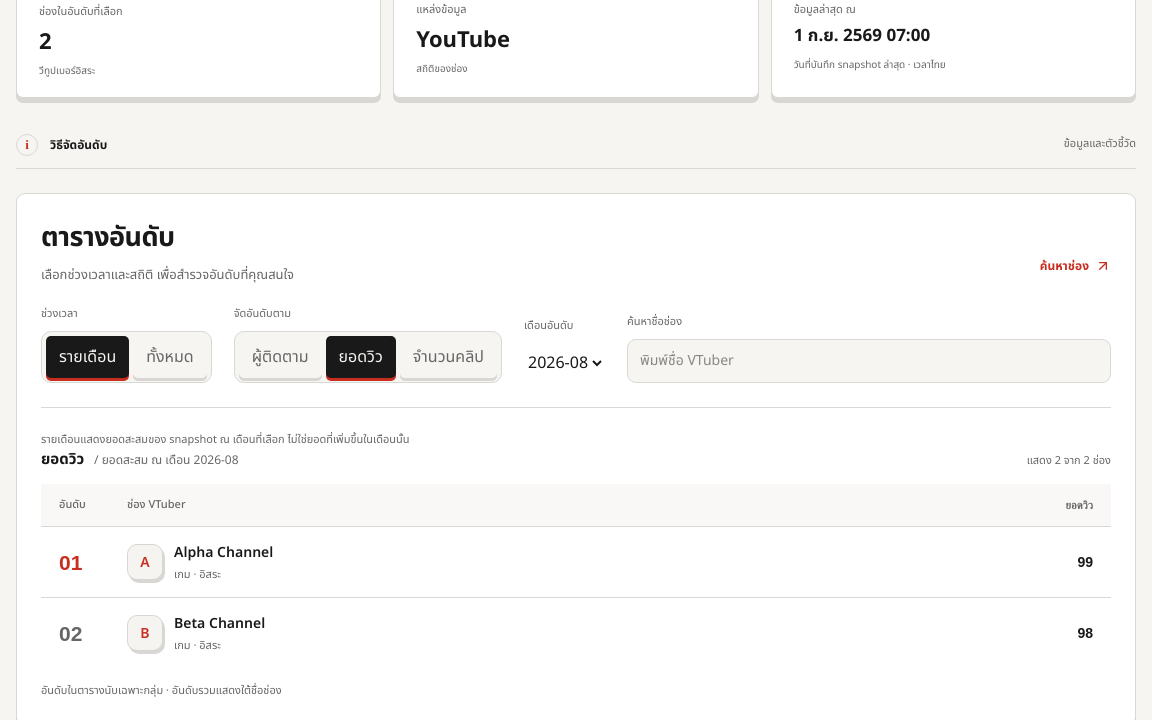
Stats page › filters fetched rankings by a shareable name query and clears it without losing other filters
(page scrolled)
Expected: the link "A Alpha Channel เกม · อิสระ" is shown, 127,542 -> 273,583
Type "alpha" into the search field labelled "ค้นหาชื่อช่อง" at x=869, y=361, box 627,339 -> 1111,383
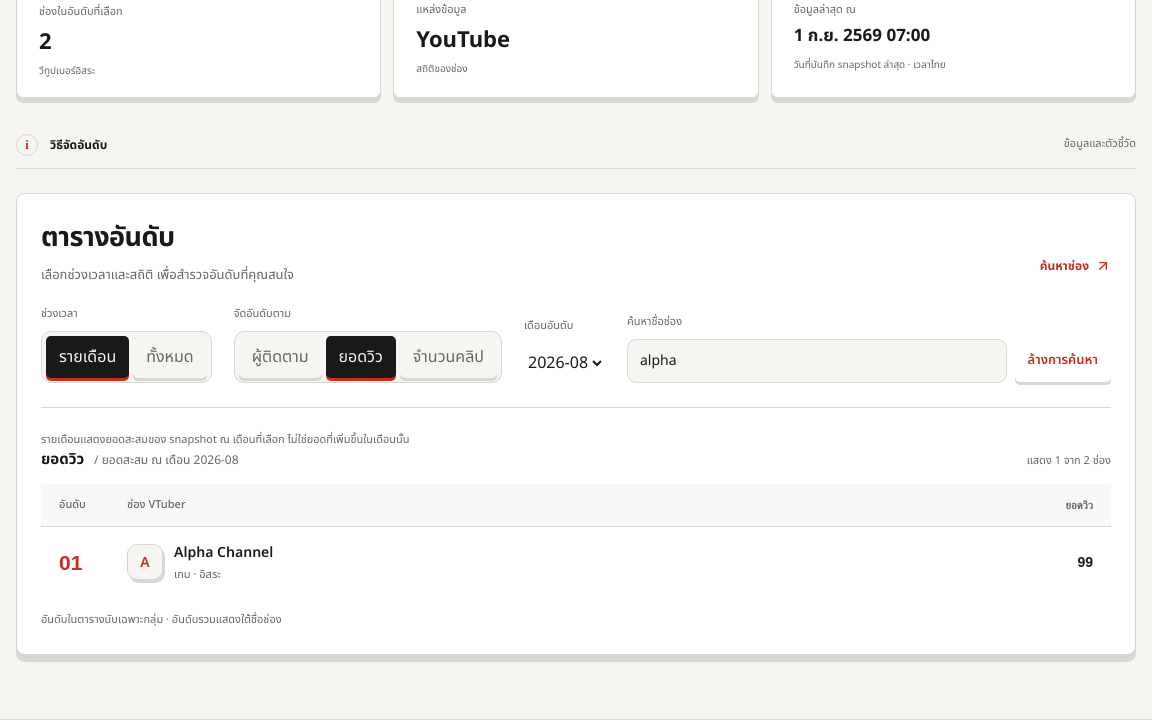
Expected: the link "A Alpha Channel เกม · อิสระ" is shown, 127,542 -> 273,583
Now the link "Beta Channel" is gone
Now the text "แสดง 1 จาก 2 ช่อง" is shown, box 1027,453 -> 1111,470
Replace the text in the search field labelled "ค้นหาชื่อช่อง" with "missing" at x=817, y=361, box 627,339 -> 1007,383
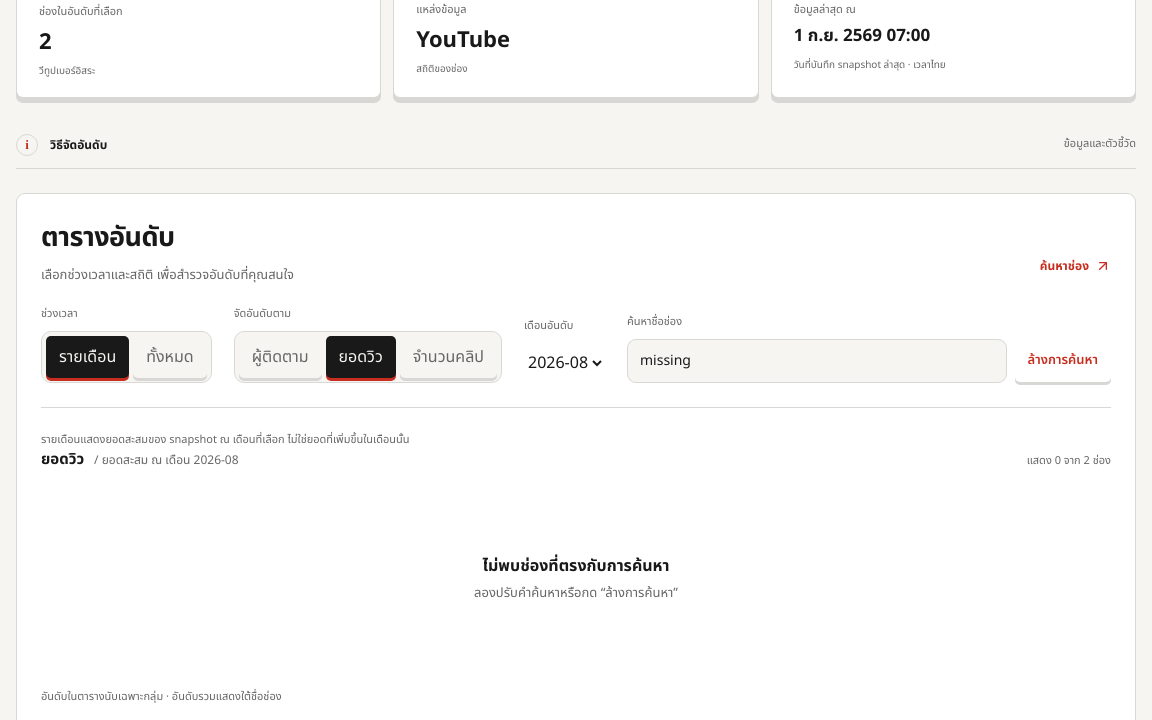
Now the text "ไม่พบช่องที่ตรงกับการค้นหา" is shown, box 482,554 -> 670,578
Now the text "แสดง 0 จาก 2 ช่อง" is shown, box 1027,453 -> 1111,470
Click the button "ล้างการค้นหา" at x=1063, y=361, box 1015,340 -> 1111,382
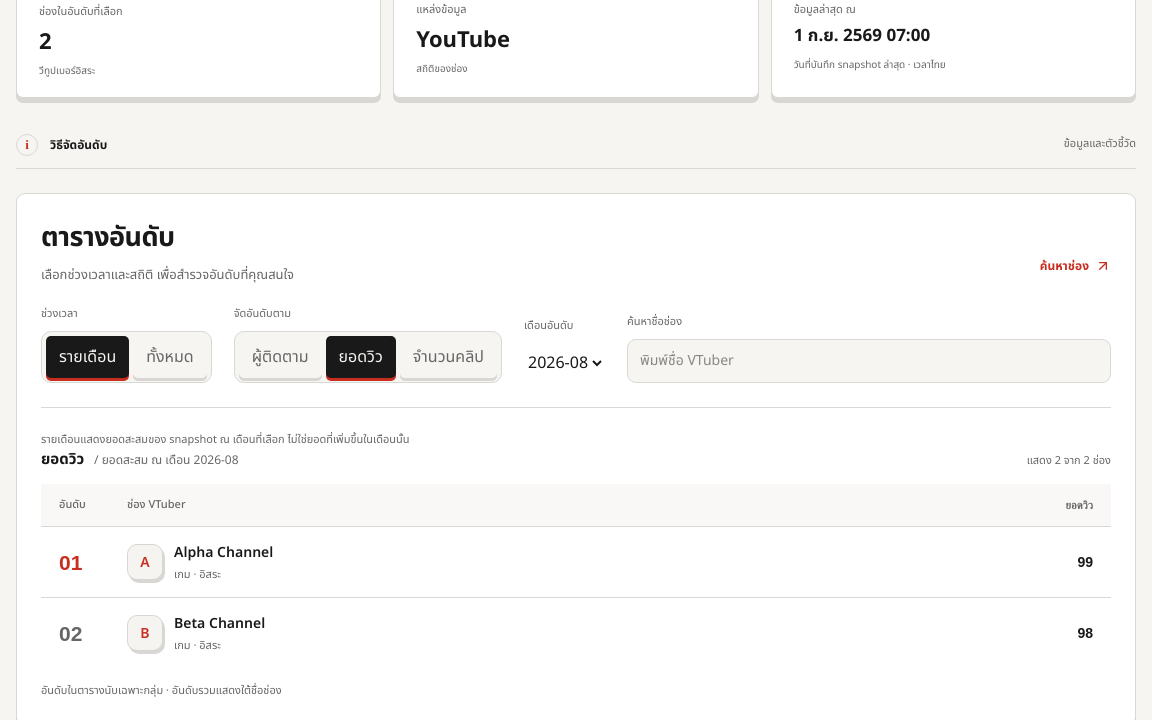
Now the search field labelled "ค้นหาชื่อช่อง" is empty, box 627,339 -> 1111,383
Now the link "B Beta Channel เกม · อิสระ" is shown, box 127,613 -> 265,654
Now the text "แสดง 2 จาก 2 ช่อง" is shown, box 1027,453 -> 1111,470
